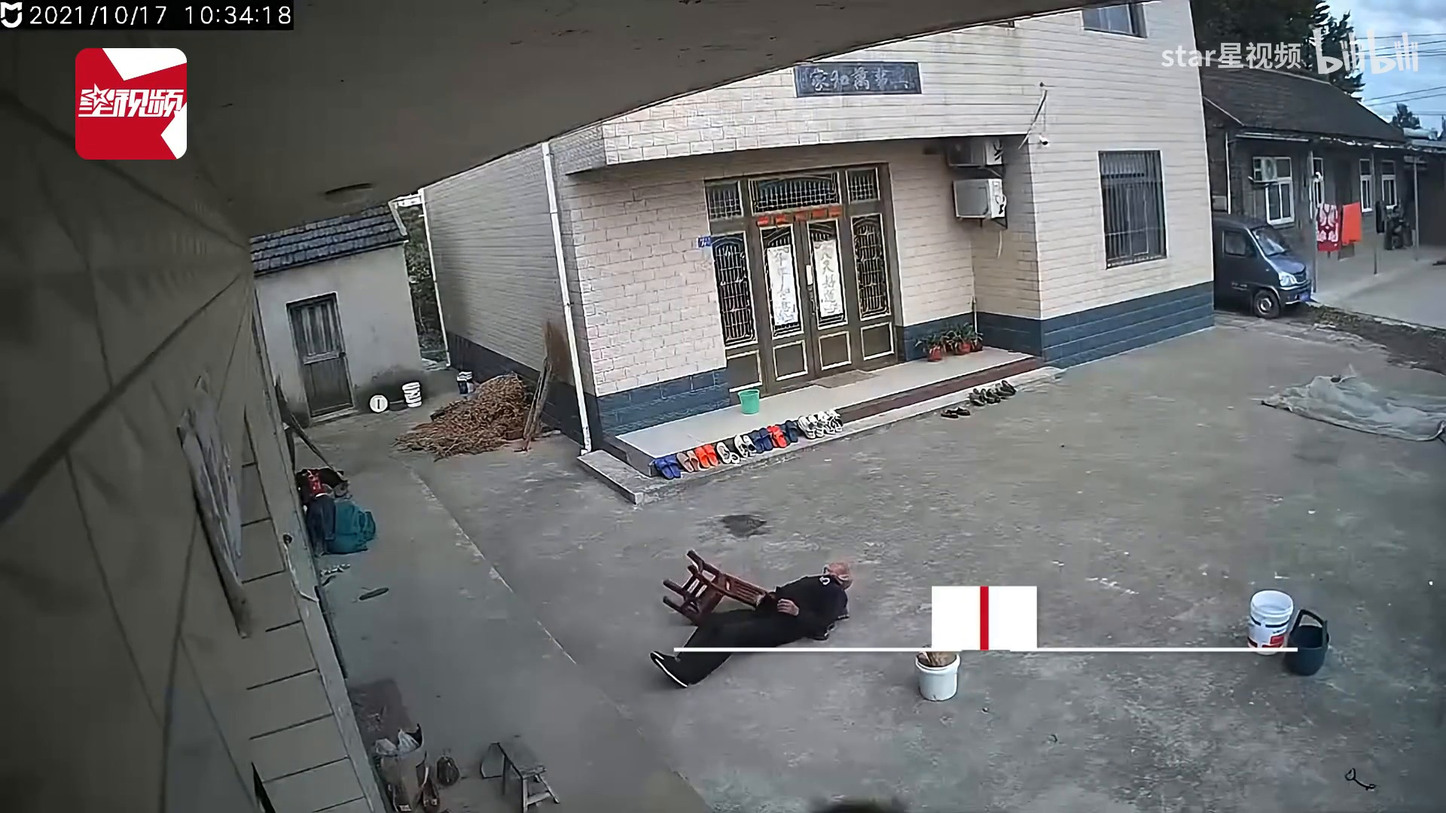fall_down: (651, 561, 853, 689)
